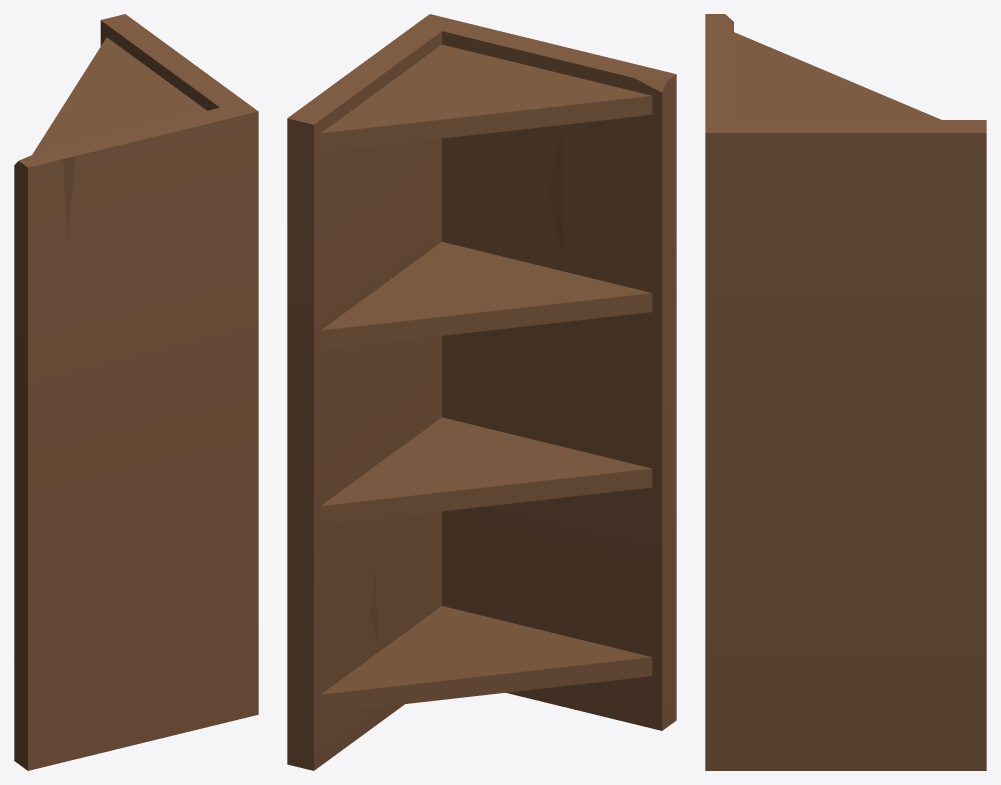
File: CornerShelf.fbx
3 views of the same model, side by side, from view 1: azimuth 30°, elevation 25°; view 2: azimuth 150°, elevation 25°; view 3: azimuth 270°, elevation 25° (orthographic). The views are drawn at different scales.
Visible parts, largest first — view 1: CornerShelf; view 2: CornerShelf; view 3: CornerShelf.
Boxes of the visible parts, bbox=[...] form: CornerShelf: bbox=[14, 14, 258, 770]; CornerShelf: bbox=[287, 14, 676, 770]; CornerShelf: bbox=[705, 14, 986, 770].
Size of the model in its own units: 40 by 100 by 40.
